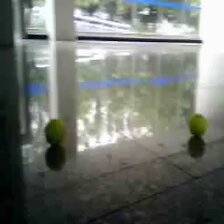tennis: (44, 118, 65, 144), (188, 113, 206, 136)
